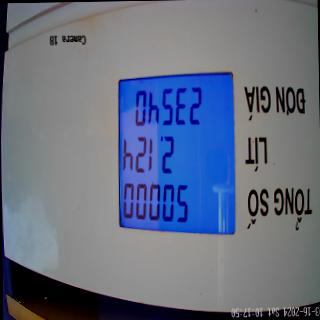screen: (115, 69, 238, 240)
